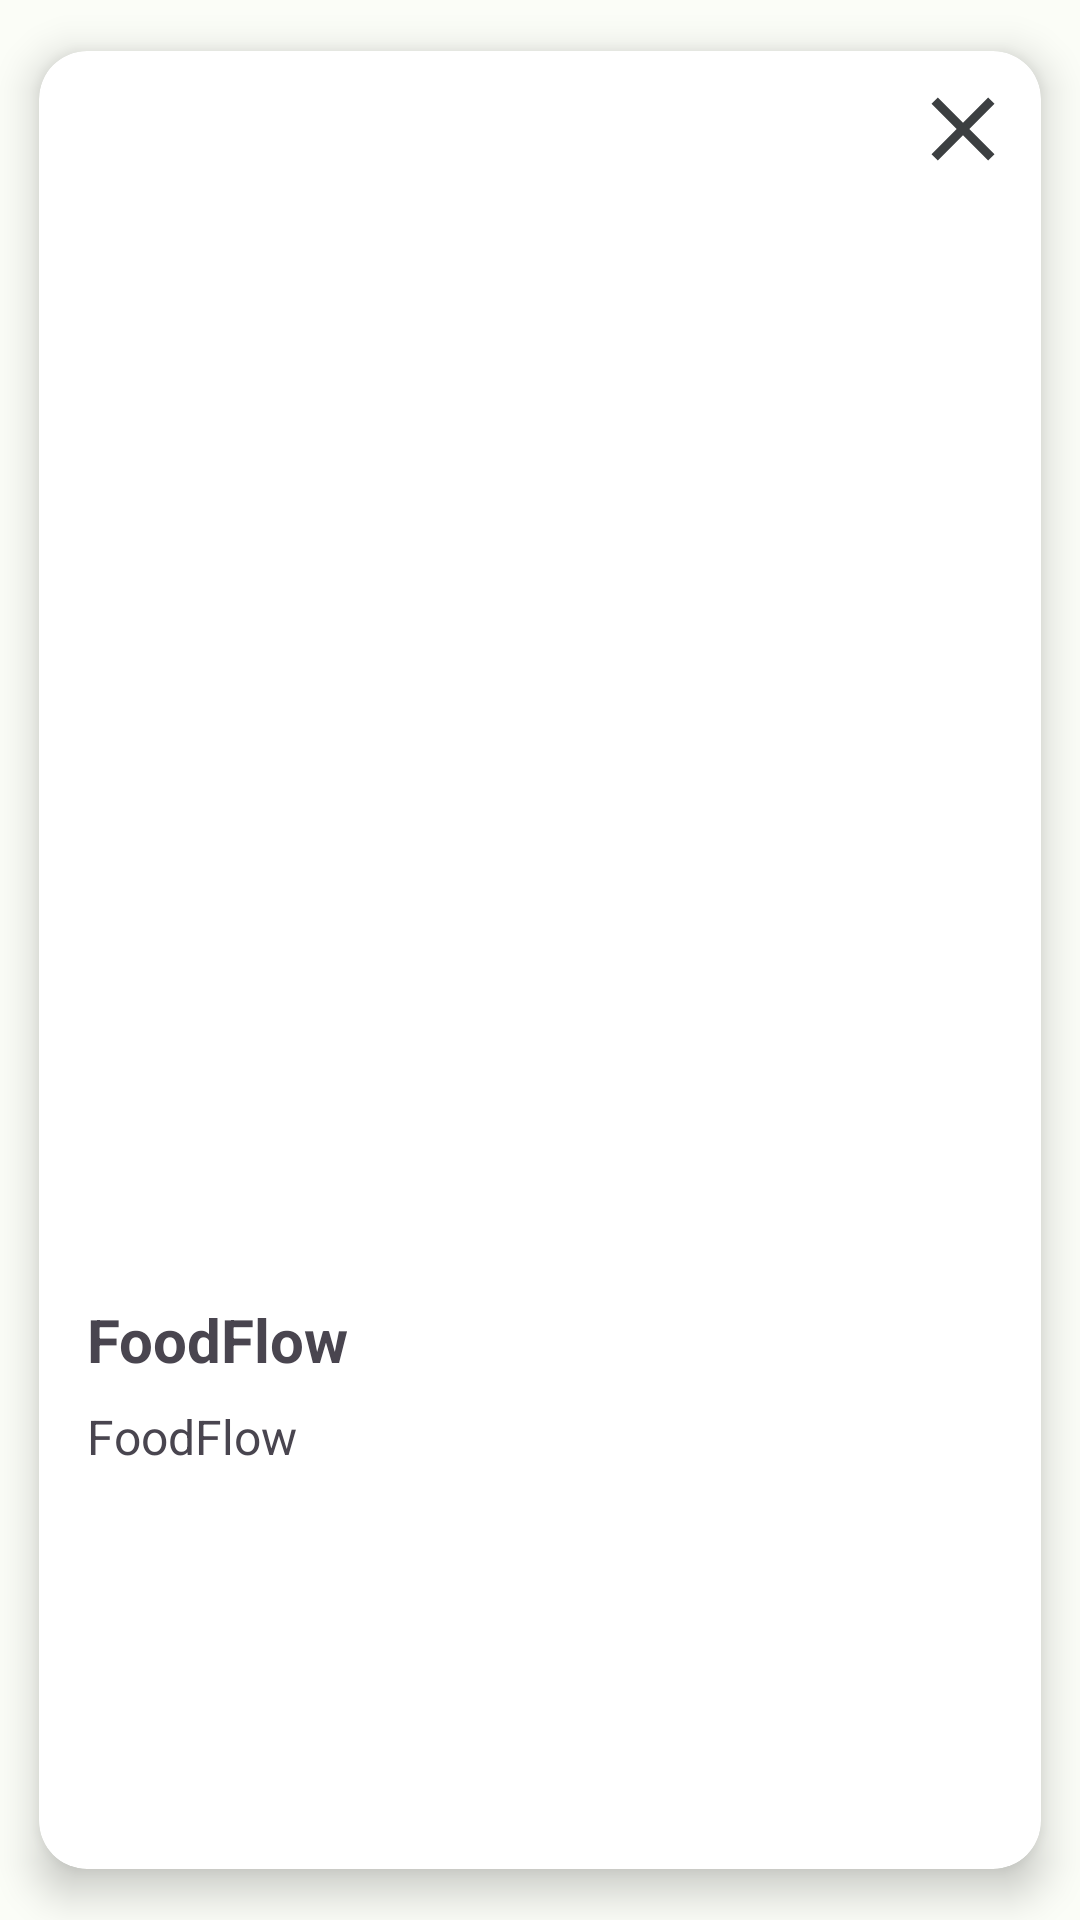

Icon bounding boxes for this 1080px×1920px phone screenshot, format {"x1": x1, "y1": y1, "x2": x2, "y2": y2}:
clear: {"x1": 931, "y1": 97, "x2": 995, "y2": 161}
